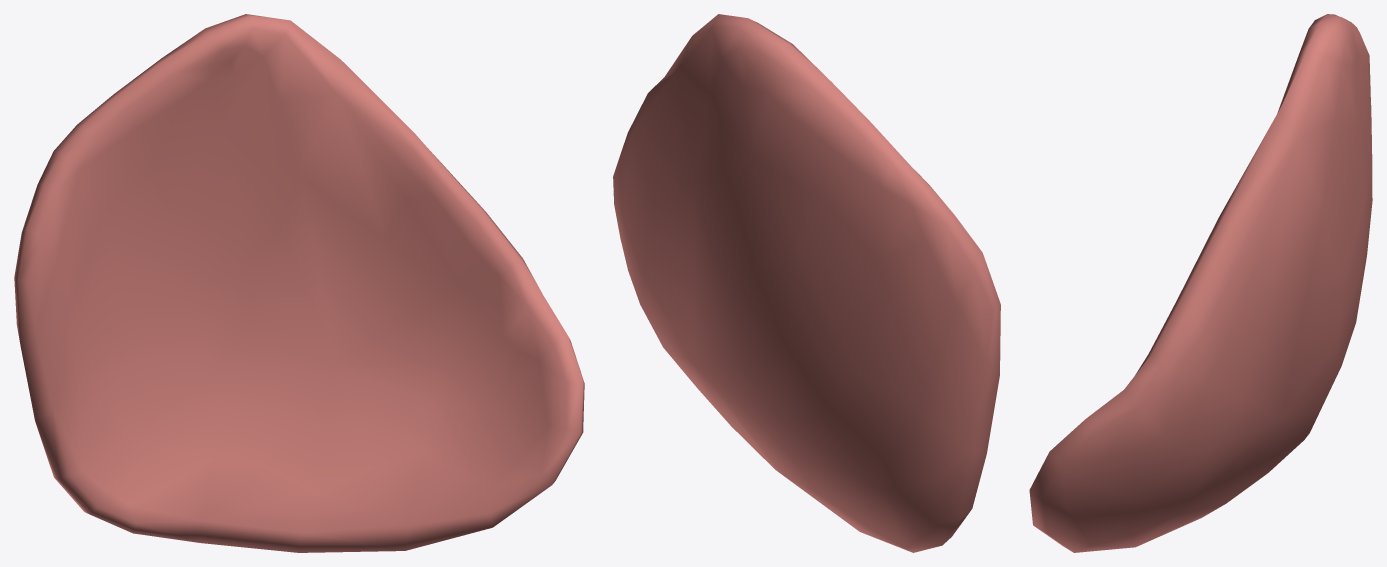
The picture shows the model from 3 angles, left to right: view 1: azimuth 30°, elevation 25°; view 2: azimuth 150°, elevation 25°; view 3: azimuth 270°, elevation 25°; orthographic projection. The views are drawn at different scales.
Visible parts, largest first — view 1: ZA_3bee1d3b1afd72cb; view 2: ZA_3bee1d3b1afd72cb; view 3: ZA_3bee1d3b1afd72cb.
Boxes of the visible parts, <box> form: ZA_3bee1d3b1afd72cb: <box>14,14,584,552</box>; ZA_3bee1d3b1afd72cb: <box>613,14,1000,552</box>; ZA_3bee1d3b1afd72cb: <box>1029,14,1372,552</box>.
Size of the model in its own units: 0.00652 by 0.00681 by 0.00423.
